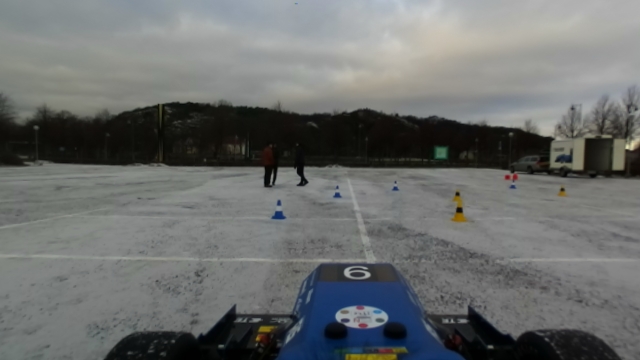blue: (269, 199, 288, 220)
